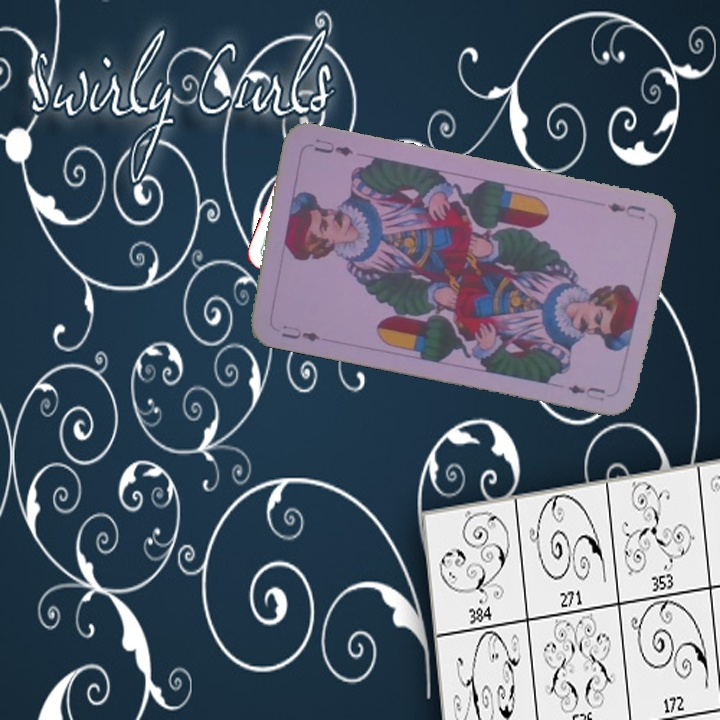EU: (277, 321, 328, 345), (604, 199, 649, 223)
